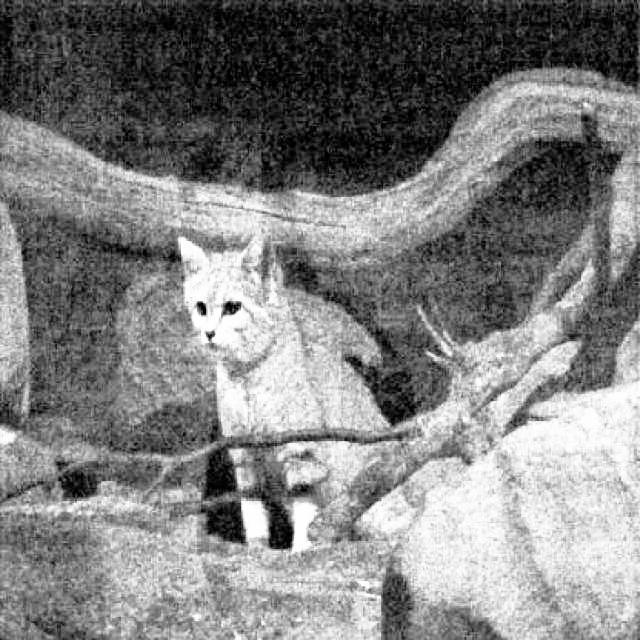Cat: (176, 230, 393, 555)
